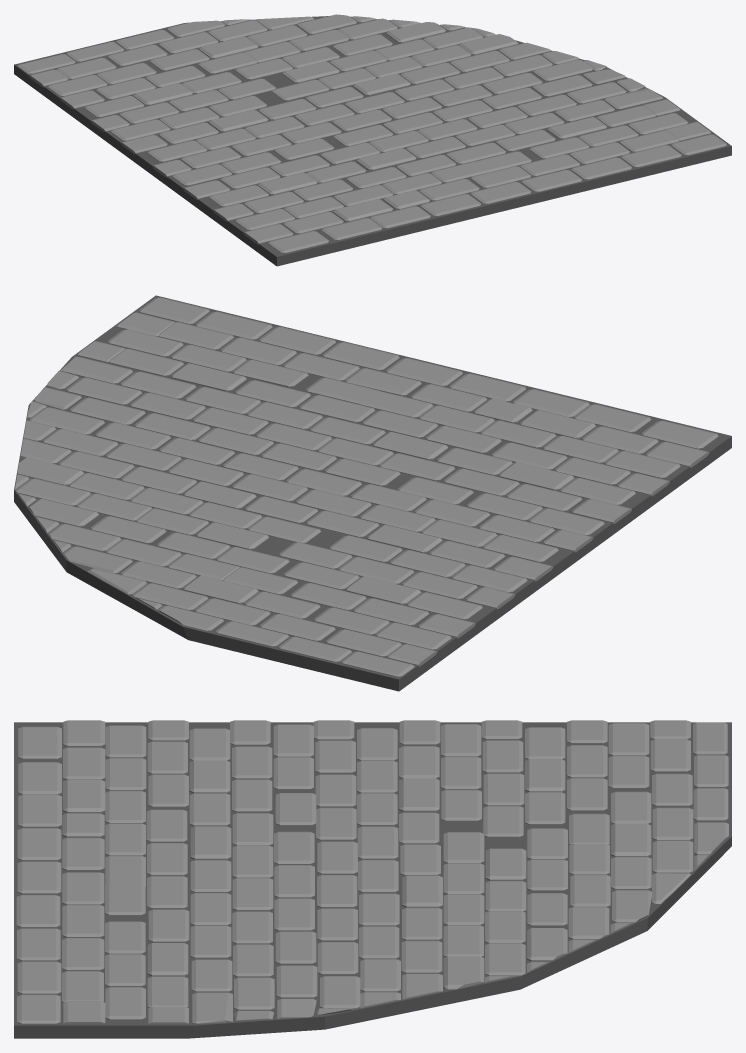
Rendered from DungeonGroundRound.fbx.
3 renders of one model, top to bottom at view 1: azimuth 30°, elevation 25°; view 2: azimuth 150°, elevation 25°; view 3: azimuth 270°, elevation 25°, orthographic. The views are drawn at different scales.
Parts seen in each view (by area): view 1: DungeonGroundRound; view 2: DungeonGroundRound; view 3: DungeonGroundRound.
Part boxes in pixels (<box>): DungeonGroundRound: <box>14,14,731,266</box>; DungeonGroundRound: <box>14,295,731,691</box>; DungeonGroundRound: <box>14,720,731,1038</box>.
Size of the model in its own units: 505 by 12.39 by 505.
1 material, 1 textured.
